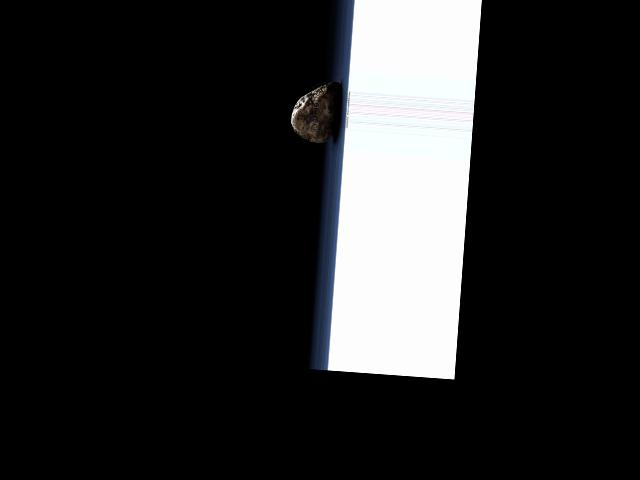beet: (290, 80, 340, 145)
